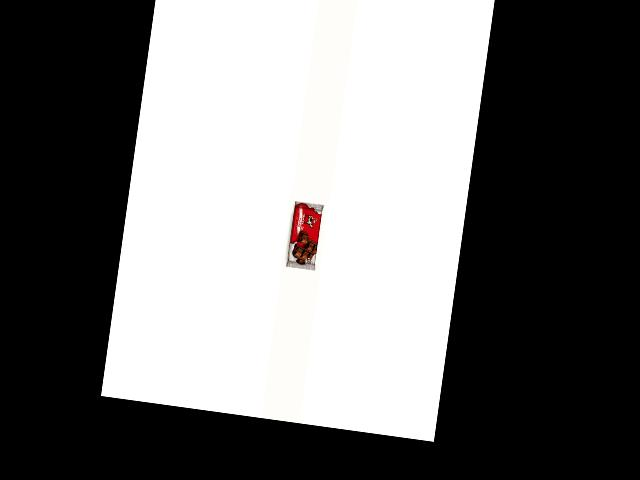chocolate: (280, 198, 326, 272)
